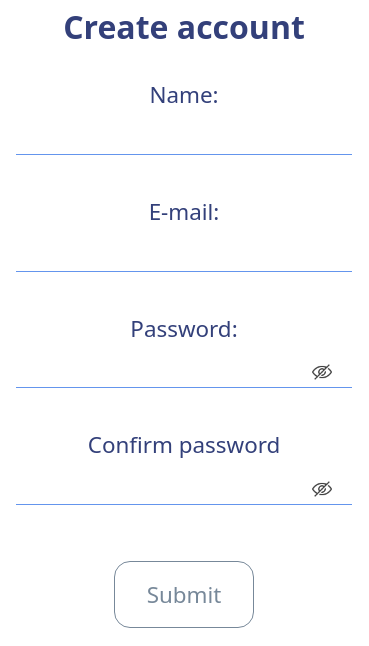
Scenario: Test LoginForm › click submit
The image size is (369, 646).
Click the button "Submit" at (184, 595), box [114, 561, 254, 628]
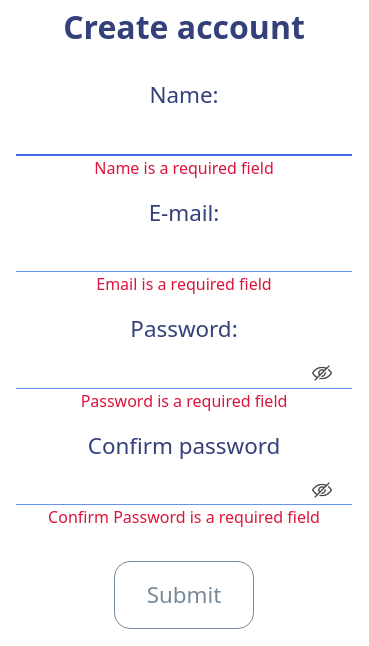
expect the text "Email is a required field" is shown: met, box [96, 273, 272, 295]
